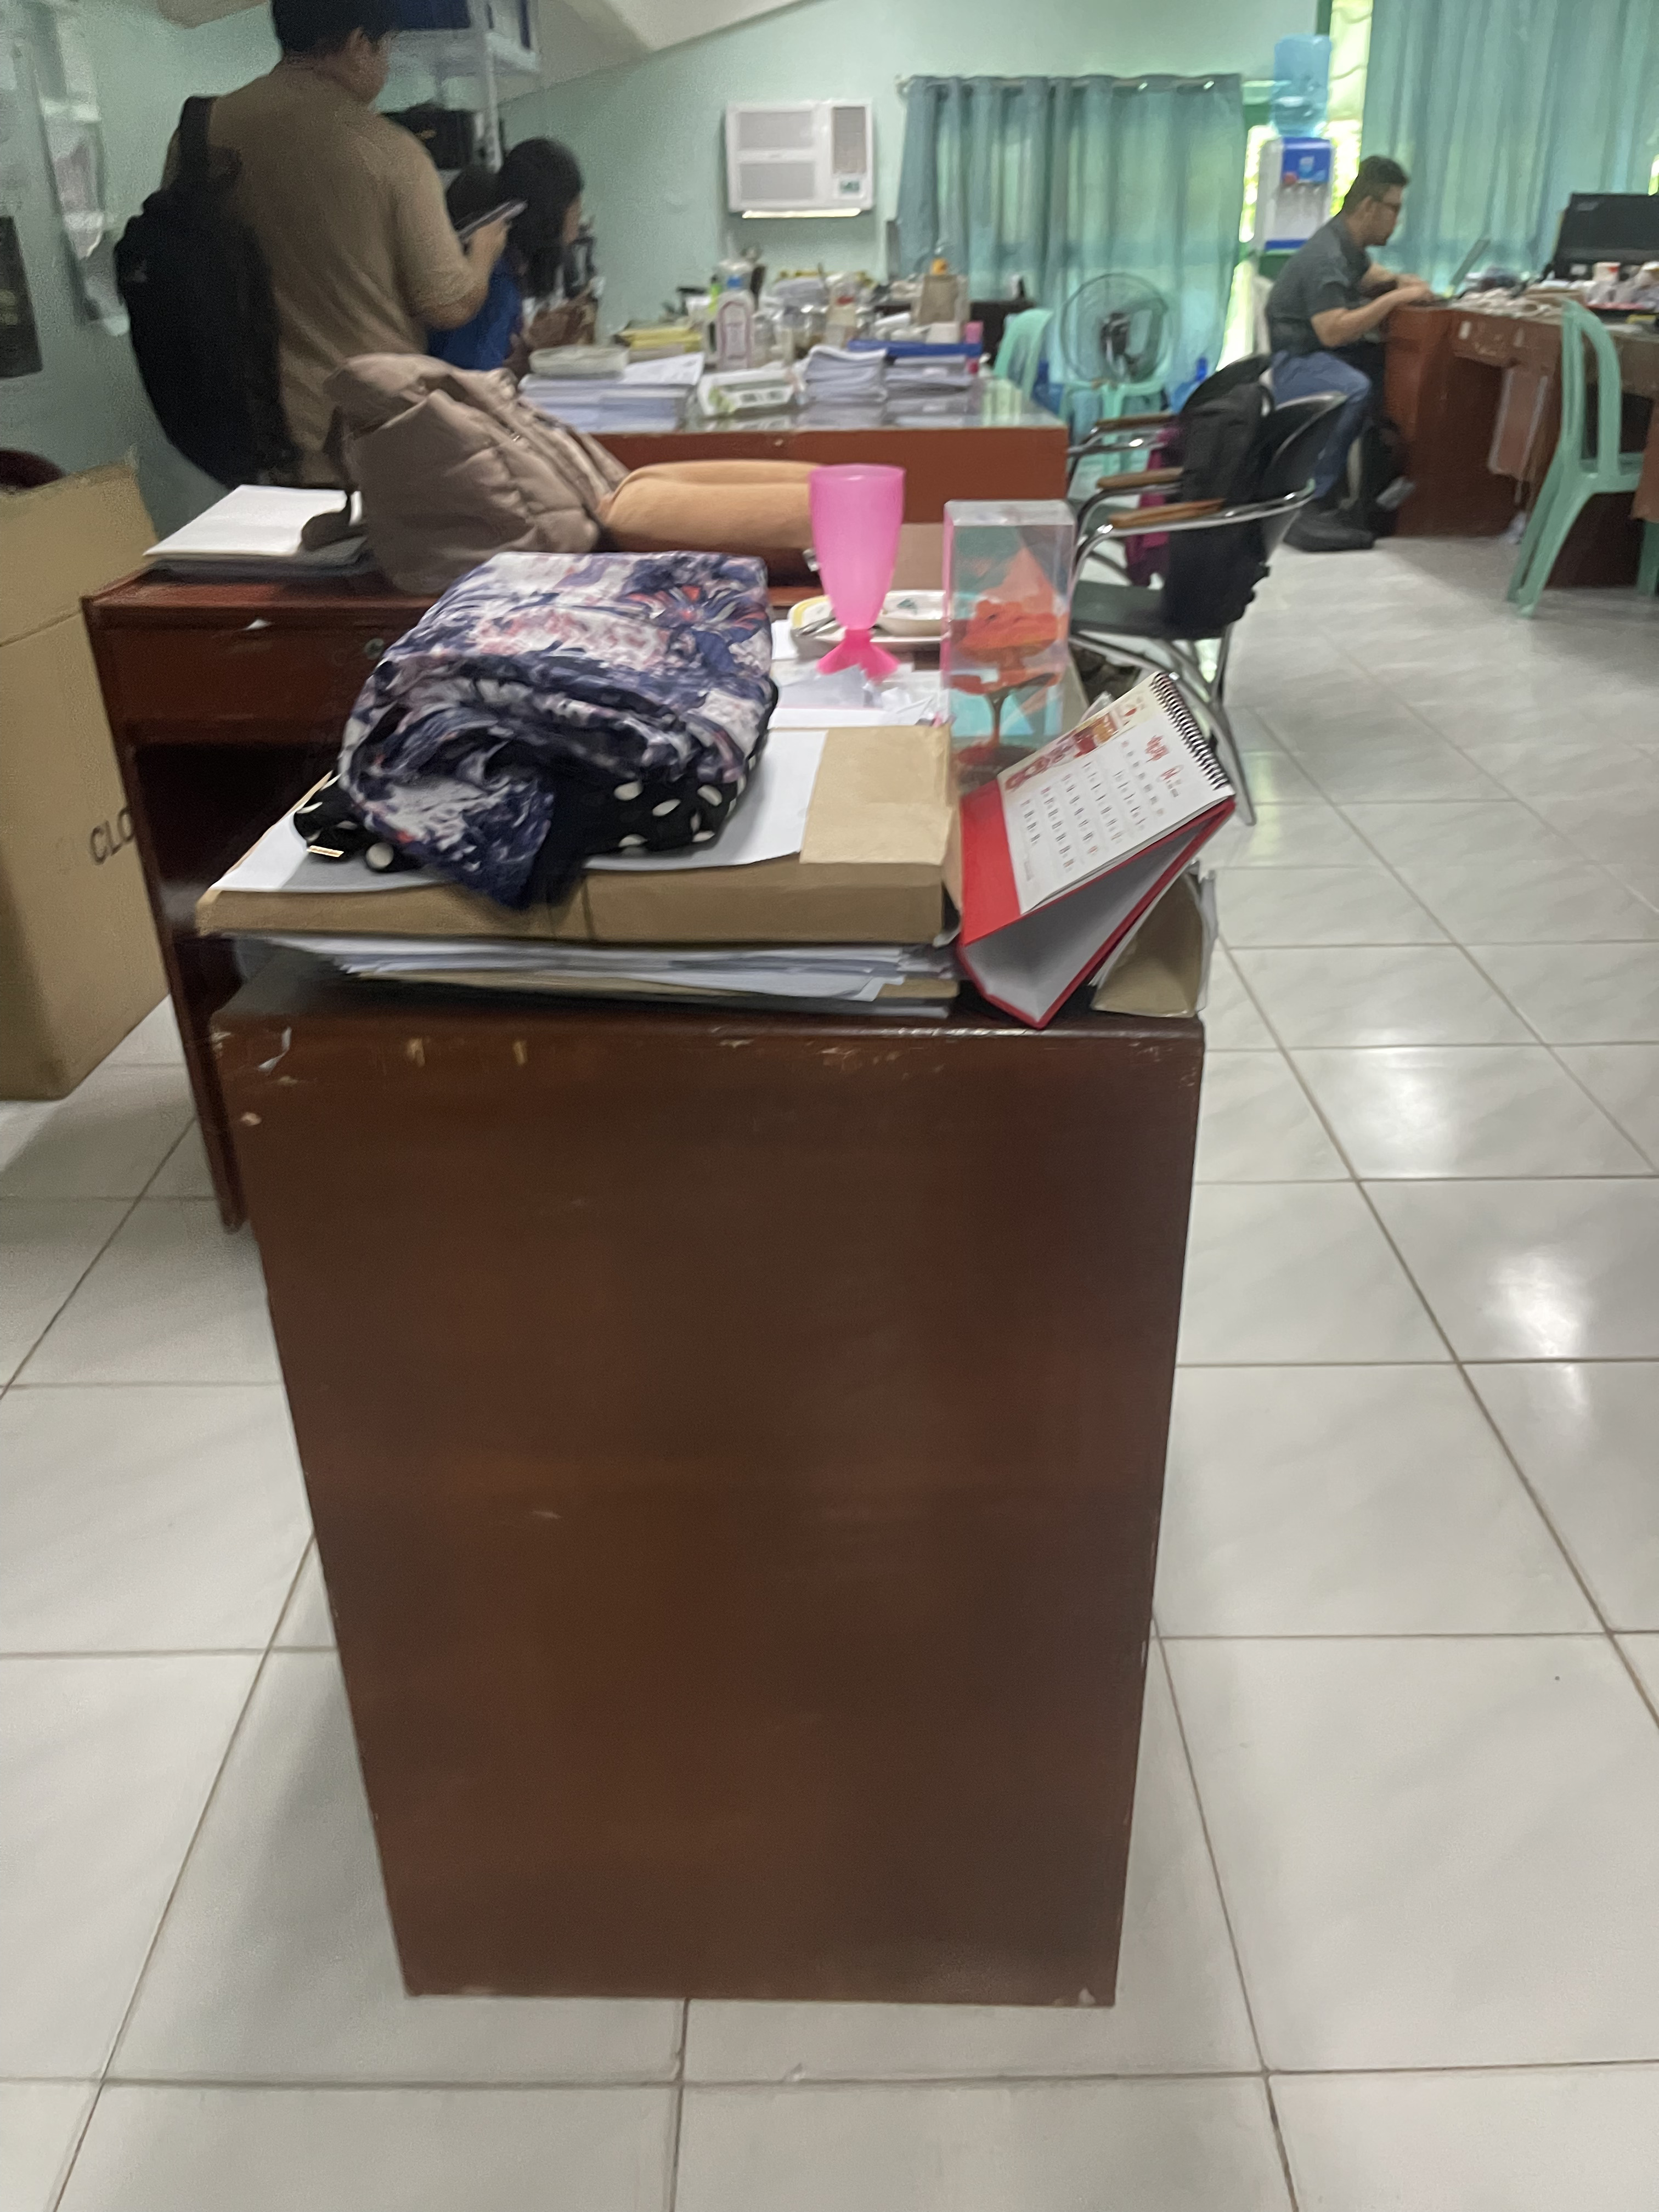table2: (77, 472, 1256, 2043)
